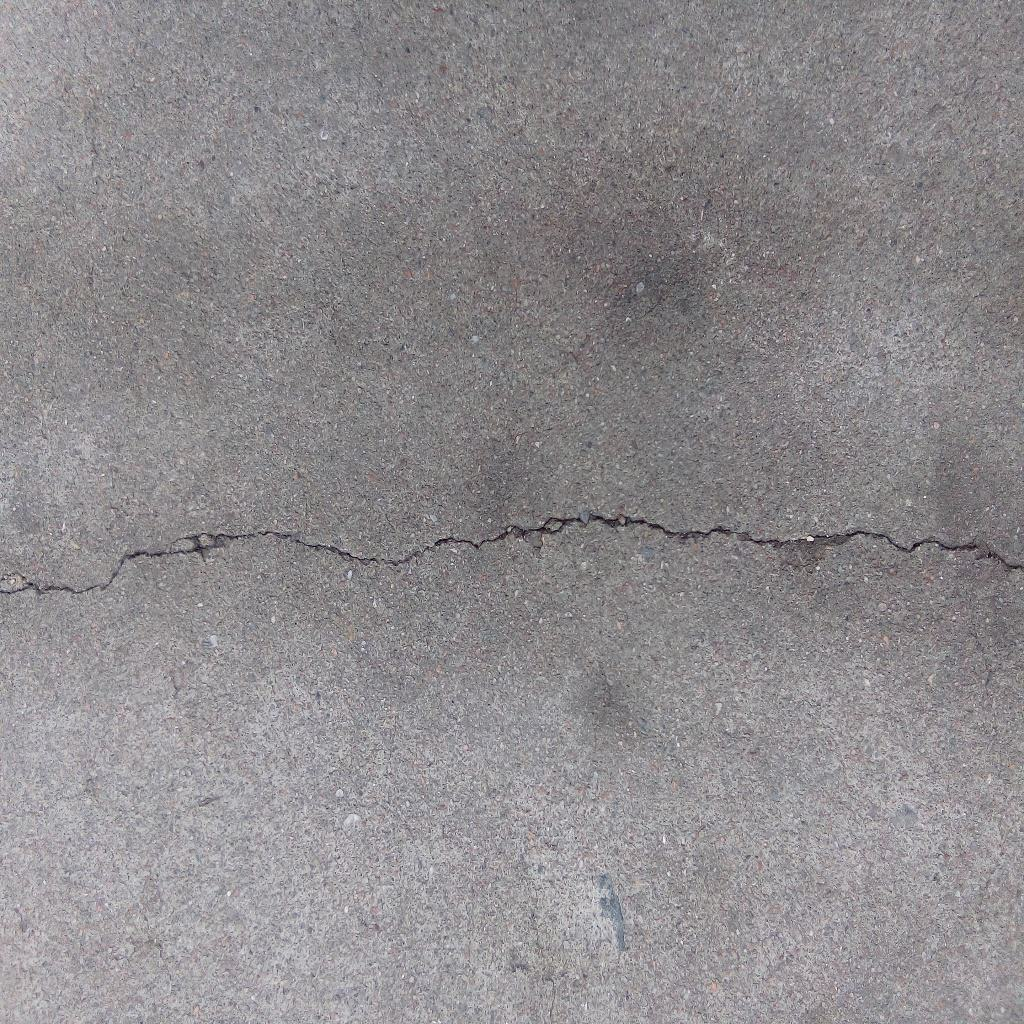Crack: (1, 512, 1024, 597)
